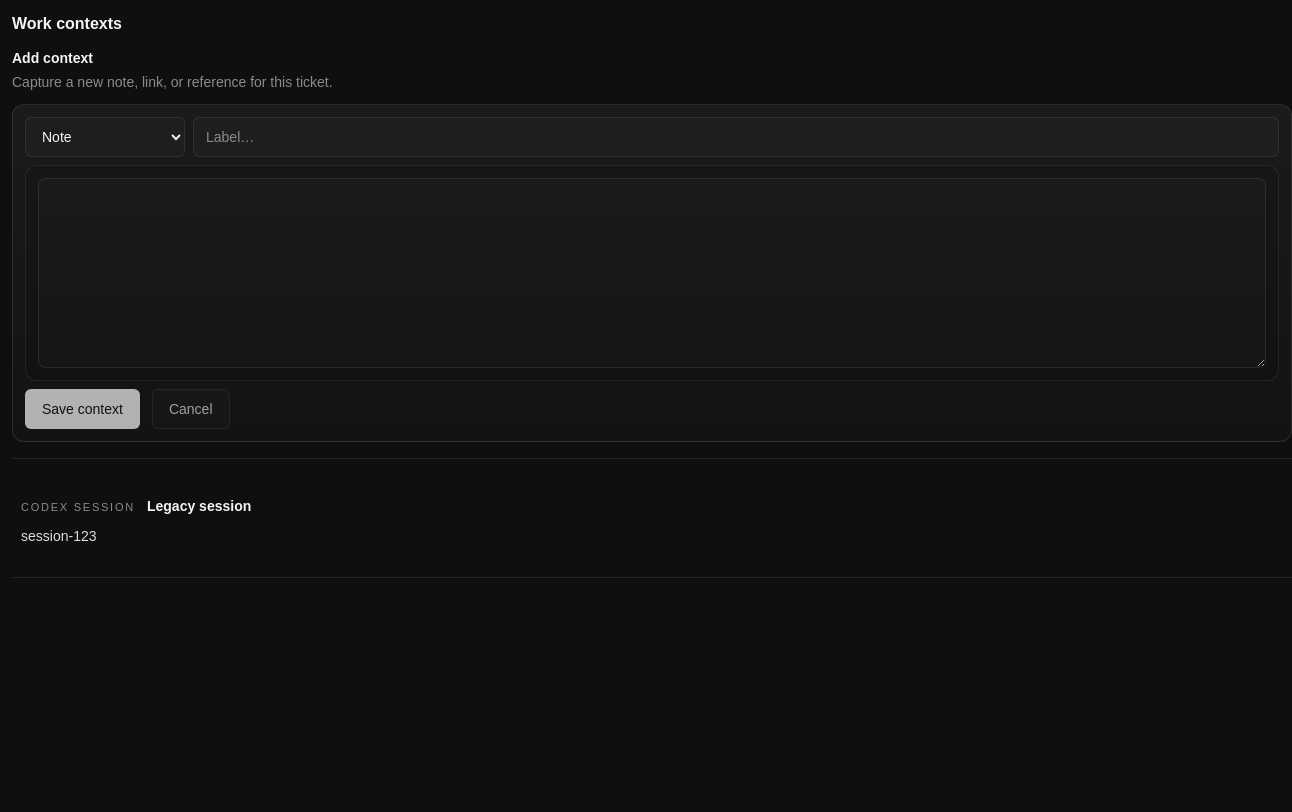
Test: WorkContextEditor › still renders a legacy hidden type in the edit selector for existing contexts
The image size is (1292, 812).
Click the heading "Legacy session": [199, 506] box x1=147 y1=496 x2=251 y2=516
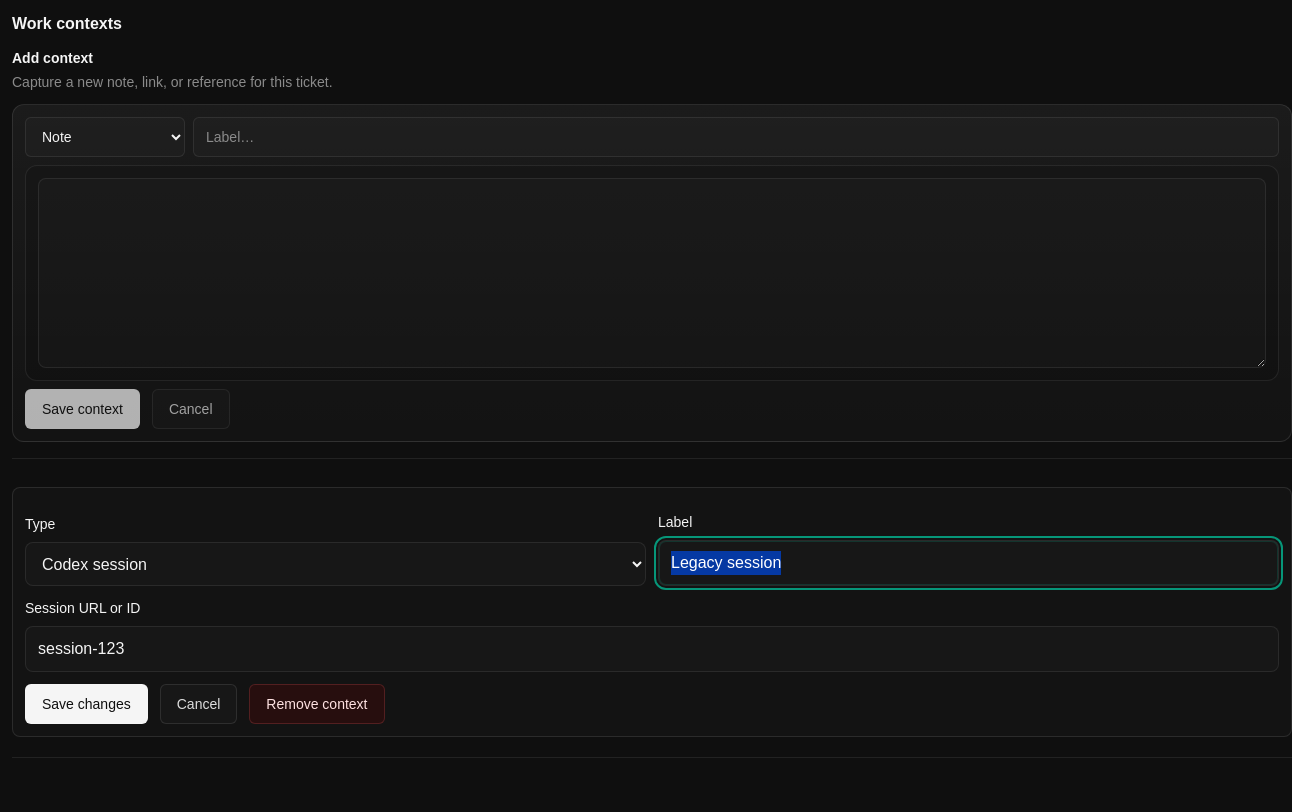
Result: the form "Save changes" is shown at x1=12 y1=487 x2=1291 y2=737
Result: the dropdown labelled "Type" shows "Codex session" at x1=25 y1=542 x2=646 y2=586
